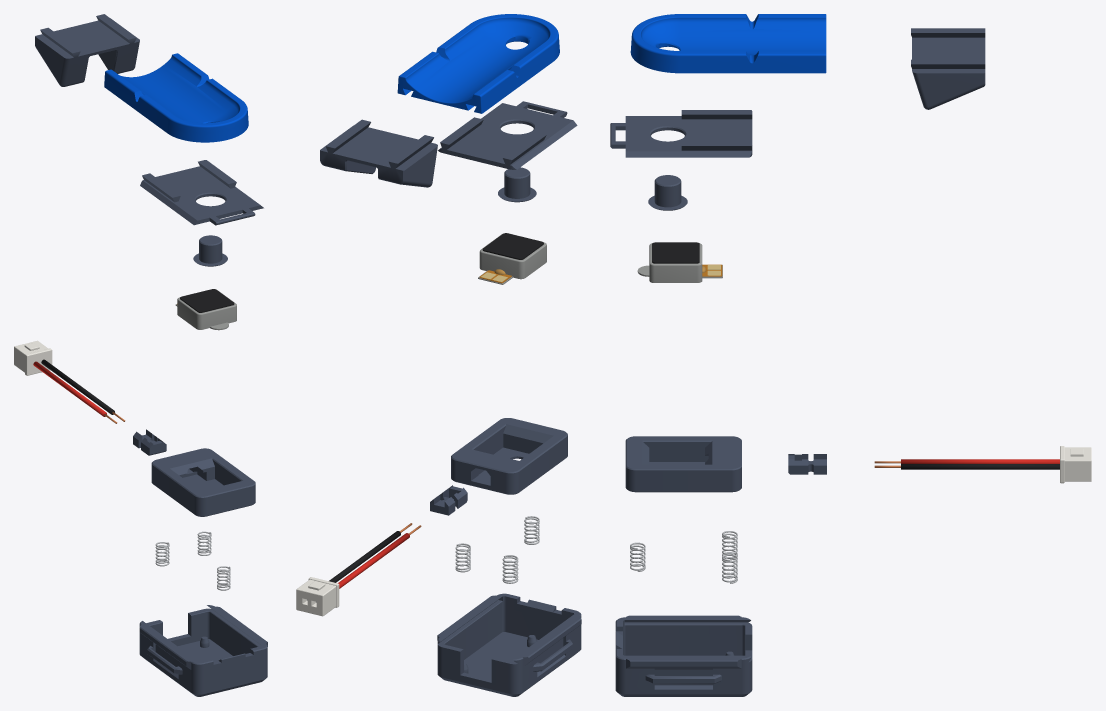
The model's file is tactor-exploded.glb.
3 views of the same model, side by side, from view 1: azimuth 30°, elevation 25°; view 2: azimuth 150°, elevation 25°; view 3: azimuth 270°, elevation 25° (orthographic). The views are drawn at different scales.
Visible parts, largest first — view 1: Shell, Finger cup, Sled, Finger sled, Lid, can, poron, Pin, Wire plug, ph-lip, wire0, wire1 (+1 smaller); view 2: Shell, Finger cup, Sled, Lid, Finger sled, can, ph-housing, poron, Pin, Wire plug, wire0, wire1; view 3: Finger cup, Shell, Sled, Lid, Finger sled, can, Pin, poron, wire1, ph-housing, wire0, Wire plug.
Boxes of the visible parts, <box> form: Shell: <box>139,605,267,696</box>; Finger cup: <box>104,53,248,142</box>; Sled: <box>151,448,255,516</box>; Finger sled: <box>35,14,139,86</box>; Lid: <box>140,160,263,225</box>; can: <box>177,290,236,329</box>; poron: <box>180,289,234,312</box>; Pin: <box>193,235,227,266</box>; Wire plug: <box>133,429,166,455</box>; ph-lip: <box>25,348,52,375</box>; wire0: <box>33,361,106,416</box>; wire1: <box>41,359,114,414</box>; Shell: <box>437,593,581,696</box>; Finger cup: <box>397,14,559,113</box>; Sled: <box>451,418,567,494</box>; Lid: <box>438,101,577,169</box>; Finger sled: <box>320,119,437,187</box>; can: <box>479,234,546,279</box>; ph-housing: <box>296,579,336,616</box>; poron: <box>482,233,543,259</box>; Pin: <box>498,167,536,202</box>; Wire plug: <box>430,485,467,515</box>; wire0: <box>338,533,409,588</box>; wire1: <box>329,531,400,582</box>; Finger cup: <box>630,14,826,73</box>; Shell: <box>615,615,752,696</box>; Sled: <box>625,436,741,492</box>; Lid: <box>610,110,752,157</box>; Finger sled: <box>911,28,985,109</box>; can: <box>649,243,702,282</box>; Pin: <box>648,175,687,210</box>; poron: <box>652,242,699,263</box>; wire1: <box>901,464,1059,469</box>; ph-housing: <box>1064,447,1091,481</box>; wire0: <box>901,459,1059,463</box>; Wire plug: <box>788,454,826,474</box>.
Bounding box in the file's own units: 0.0216 × 0.1342 × 0.0909.
